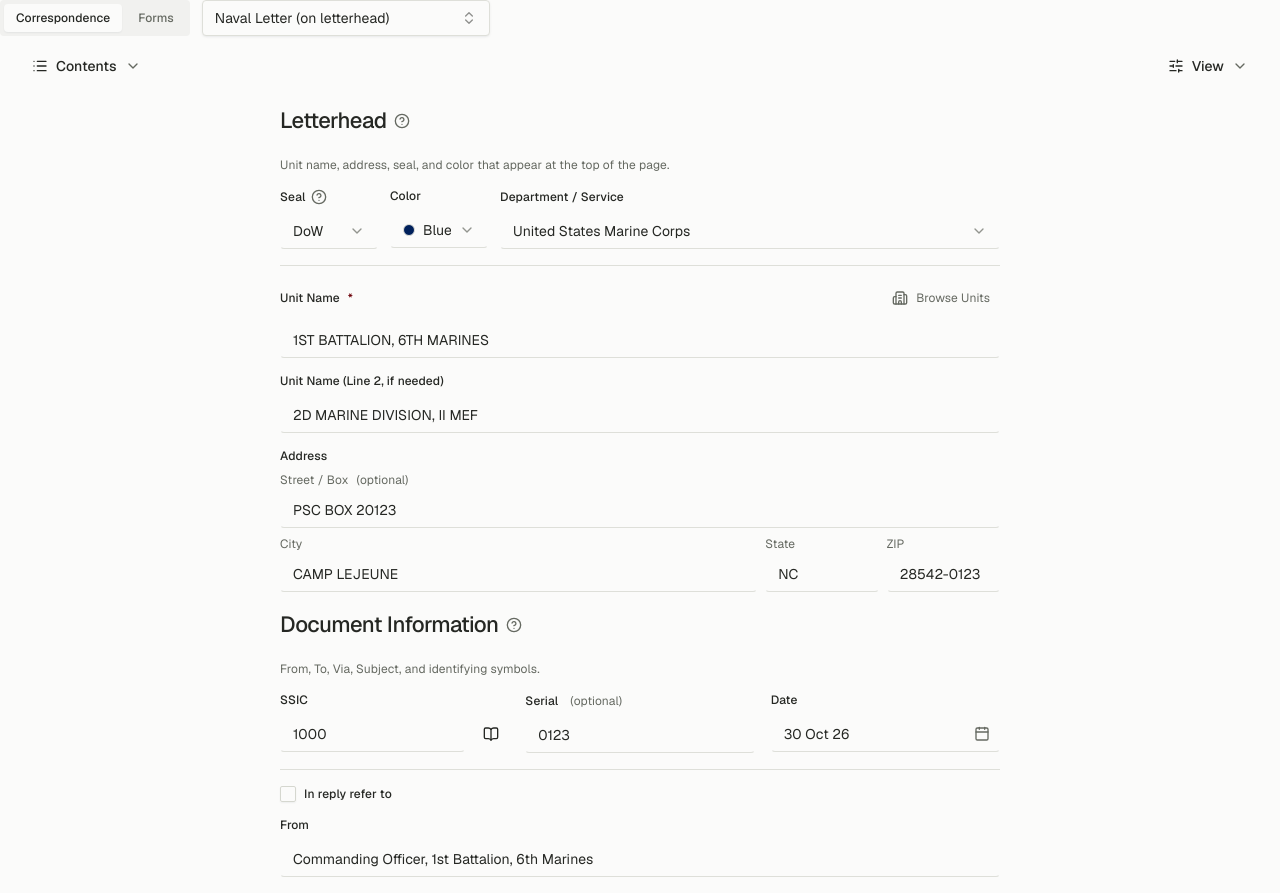
it: shows one type selector and optional section jumping in Full document
Expected: the number of buttons named "Correspondence type" is 1, [202, 0, 490, 36]
Click the button "Contents": [86, 66] box [20, 48, 152, 84]
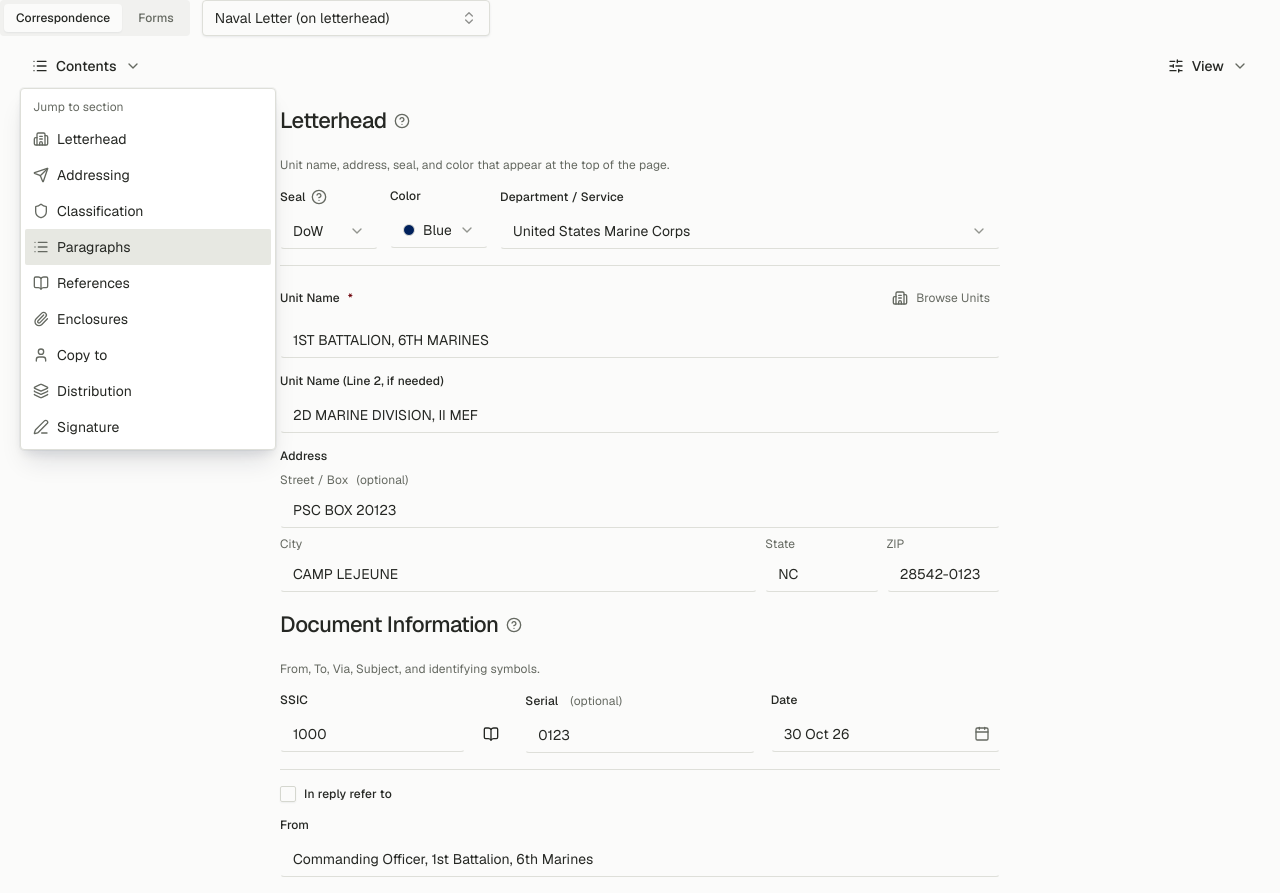
Click the menu item "Signature": [76, 427] box [33, 418, 119, 436]
(page scrolled)
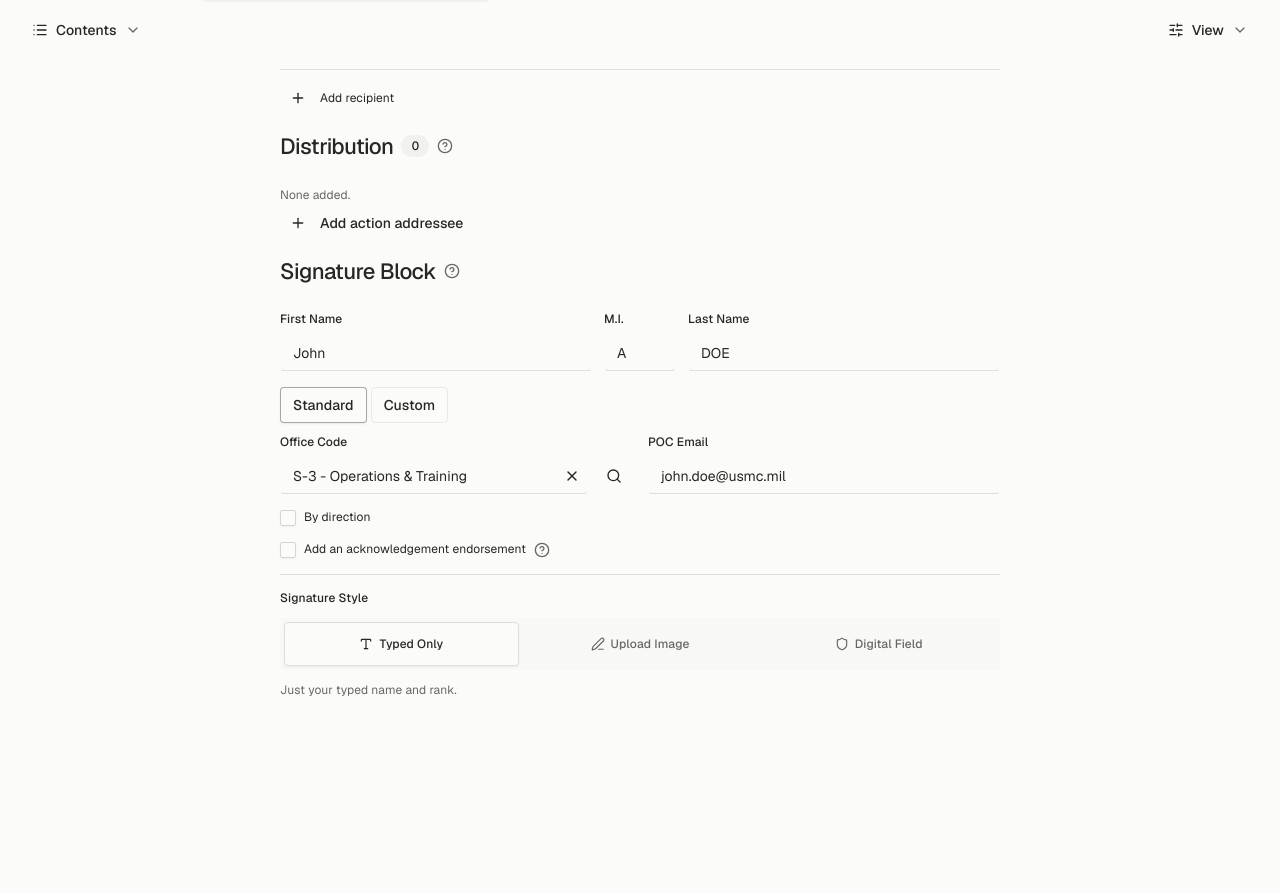
Result: the element with id "sec-signature" is shown at [280, 255, 1000, 714]
